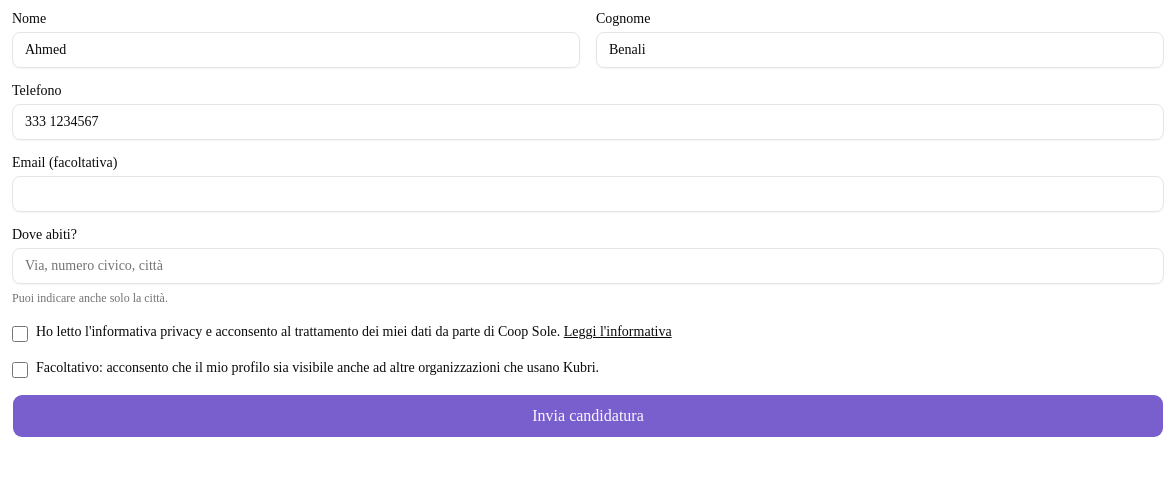
Test: ContactForm › blocks submit without a place
Click the checkbox labelled "Ho letto l'informativa": click(20, 334) [12,326,28,342]
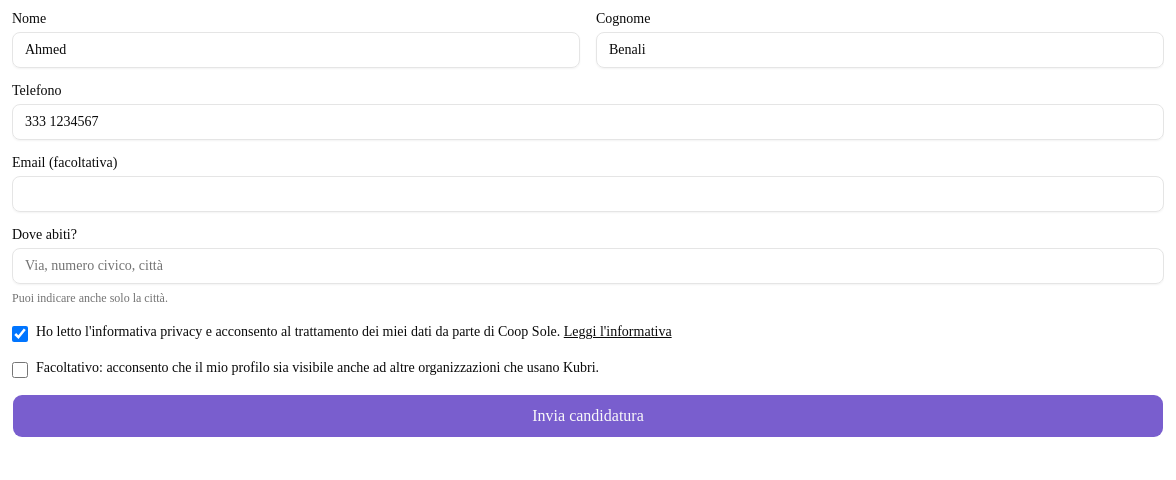
Click the button "Invia candidatura": click(588, 416) [12,394,1164,438]
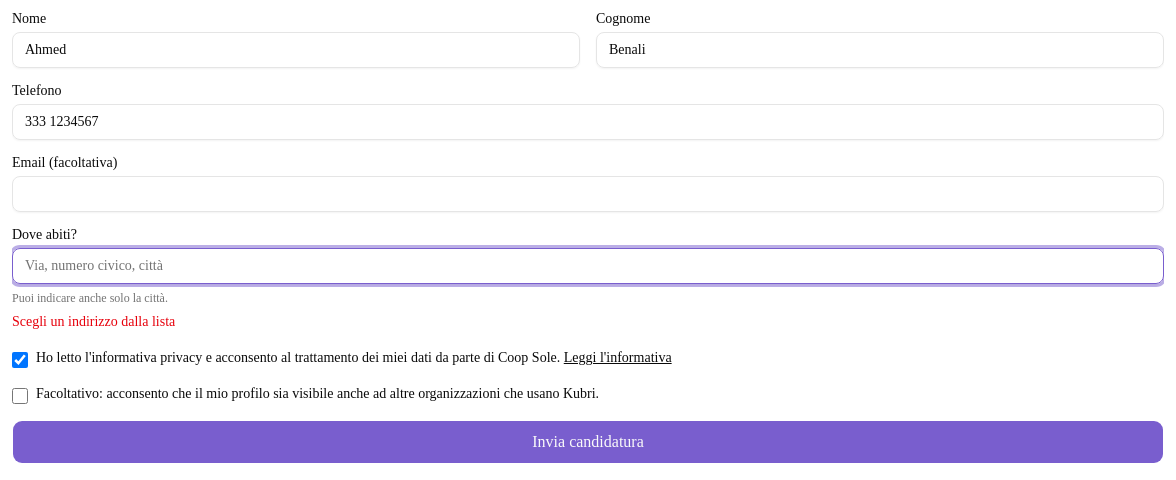
Expected: the text "Scegli un indirizzo dalla lista" is shown, [12,314,175,329]
